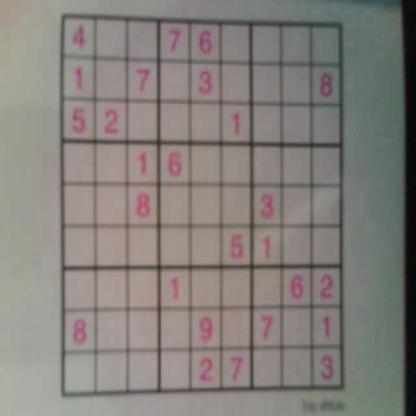sudoku: (58, 12, 348, 400)
